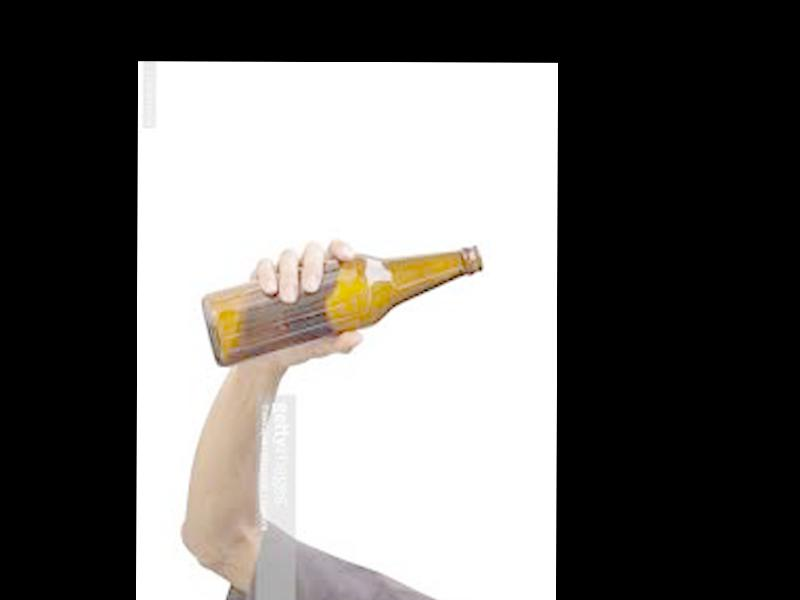Beer: (203, 244, 481, 370)
